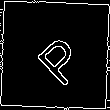P_NW: (24, 24, 86, 86)
